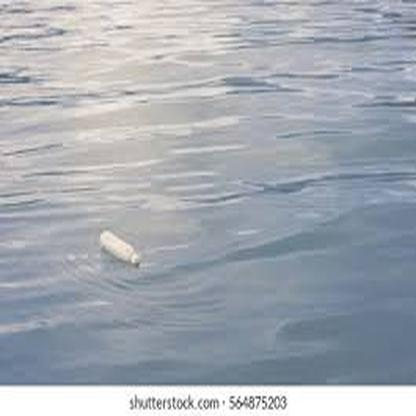plastic bottle: (100, 231, 138, 265)
